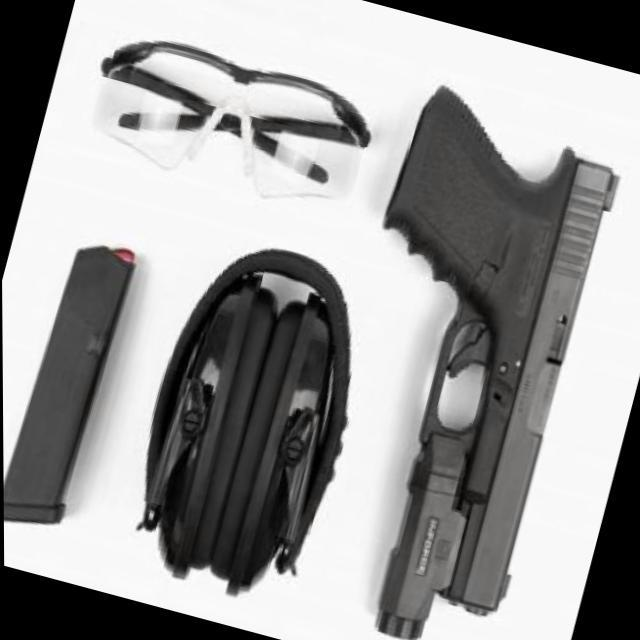weapon: (276, 76, 634, 640), (109, 224, 389, 613), (1, 229, 141, 539)
